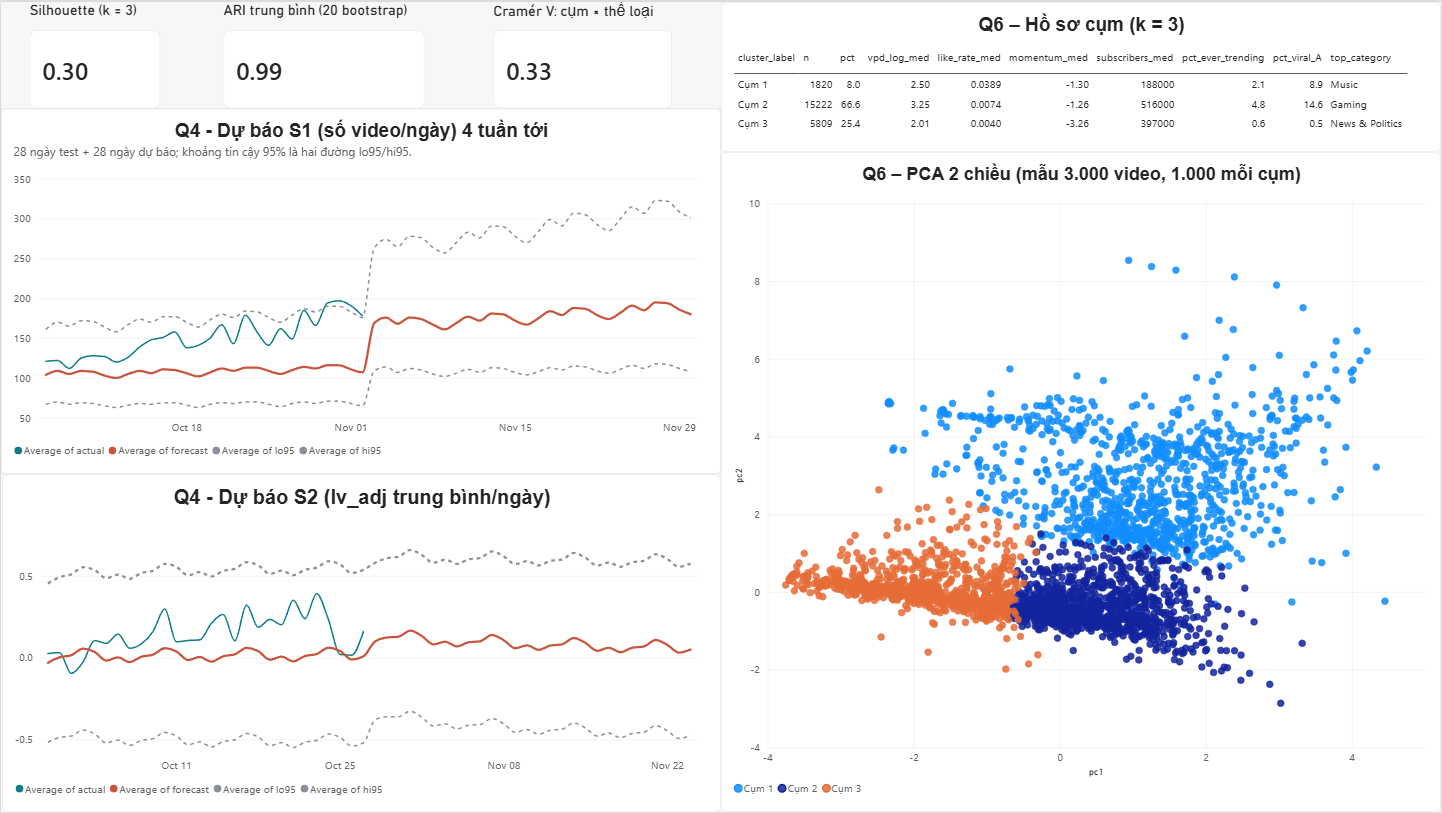

The page's visual inventory and layout, read from the dashboard file:
{"tool":"powerbi","page":{"name":"4. Cụm và dự báo","canvas":[1920,1080],"ordinal":3},"visuals":[{"type":"lineChart","title":"Q4 - Dự báo S1 (số video/ngày) 4 tuần tới","fields":{"Category":["q4_forecast_S1.date"],"Y":["Avg(q4_forecast_S1.actual)","Avg(q4_forecast_S1.forecast)","Avg(q4_forecast_S1.lo95)","Avg(q4_forecast_S1.hi95)"]},"box":[0,142,960,488],"z":0},{"type":"lineChart","title":"Q4 - Dự báo S2 (lv_adj trung bình/ngày)","fields":{"Category":["q4_forecast_S2.date"],"Y":["Avg(q4_forecast_S2.actual)","Avg(q4_forecast_S2.forecast)","Avg(q4_forecast_S2.lo95)","Avg(q4_forecast_S2.hi95)"]},"box":[2,630,958,450],"z":1000},{"type":"scatterChart","title":"Q6 – PCA 2 chiều (mẫu 3.000 video, 1.000 mỗi cụm)","fields":{"Series":["q6_pca_points_sample.cluster_label"],"X":["q6_pca_points_sample.pc1"],"Y":["q6_pca_points_sample.pc2"]},"box":[960,200,960,880],"z":2000},{"type":"tableEx","title":"Q6 – Hồ sơ cụm (k = 3)","fields":{"Values":["q6_cluster_profile.cluster_label","q6_cluster_profile.n","q6_cluster_profile.pct","q6_cluster_profile.vpd_log_med","q6_cluster_profile.like_rate_med","q6_cluster_profile.momentum_med","q6_cluster_profile.subscribers_med","q6_cluster_profile.pct_ever_trending","q6_cluster_profile.pct_viral_A","q6_cluster_profile.top_category"]},"box":[960,0,960,200],"z":3000},{"type":"cardVisual","title":"Silhouette (k = 3)","fields":{"Data":["Sum(q6_summary.gia_tri)"]},"box":[38,0,174,142],"z":4000},{"type":"cardVisual","title":"ARI trung bình (20 bootstrap)","fields":{"Data":["Sum(q6_summary.gia_tri)"]},"box":[296,0,268,142],"z":5000},{"type":"cardVisual","title":"Cramér V: cụm × thể loại","fields":{"Data":["Sum(q6_summary.gia_tri)"]},"box":[656,0,238,142],"z":6000}]}

Visuals, with their boxes in screenshot pixels (x1, y1, x2, y2), scaled from the page's 1920x1080 canvas onto the 1442x813 screenshot:
"Q4 - Dự báo S1 (số video/ngày) 4 tuần tới" lineChart: 0/107/721/474
"Q4 - Dự báo S2 (lv_adj trung bình/ngày)" lineChart: 2/474/721/812
"Q6 – PCA 2 chiều (mẫu 3.000 video, 1.000 mỗi cụm)" scatterChart: 721/151/1441/812
"Q6 – Hồ sơ cụm (k = 3)" tableEx: 721/0/1441/151
"Silhouette (k = 3)" cardVisual: 29/0/159/107
"ARI trung bình (20 bootstrap)" cardVisual: 222/0/424/107
"Cramér V: cụm × thể loại" cardVisual: 493/0/671/107
